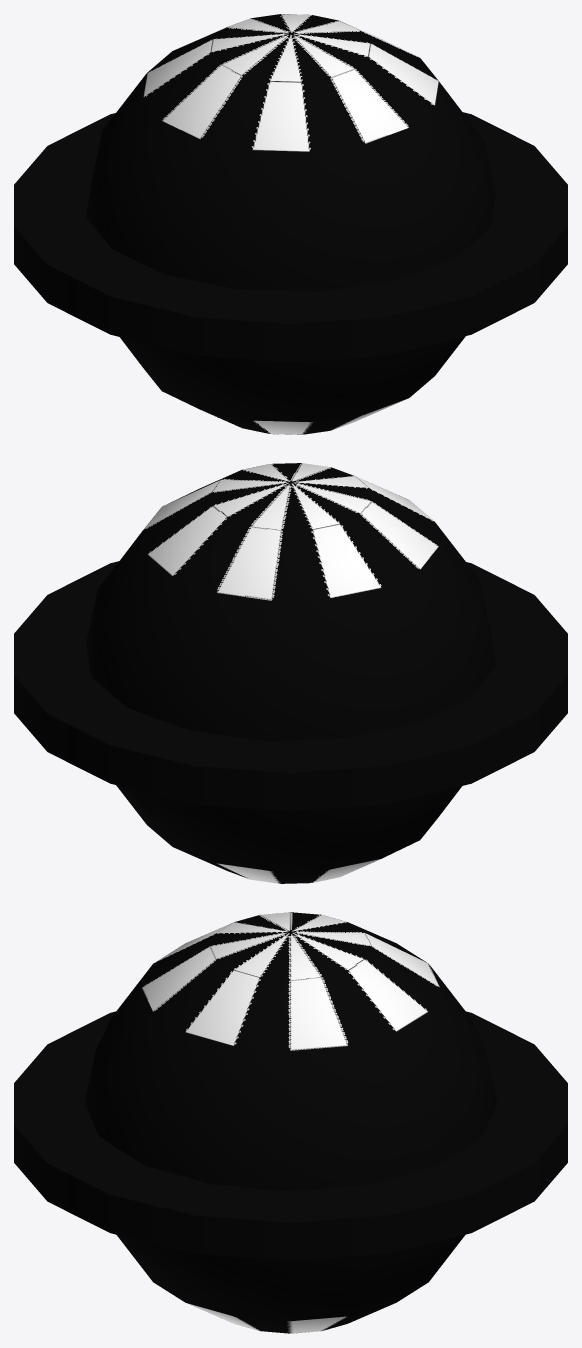
File: Model_Ufo_1.fbx
3 renders of one model, top to bottom at view 1: azimuth 30°, elevation 25°; view 2: azimuth 150°, elevation 25°; view 3: azimuth 270°, elevation 25°, orthographic.
Parts seen in each view (by area): view 1: Sphere001; view 2: Sphere001; view 3: Sphere001.
Part boxes in pixels (bbox=[...]): Sphere001: bbox=[14, 14, 567, 434]; Sphere001: bbox=[14, 463, 567, 883]; Sphere001: bbox=[14, 912, 567, 1333].
Size of the model in its own units: 16.9 by 16.64 by 12.67.
